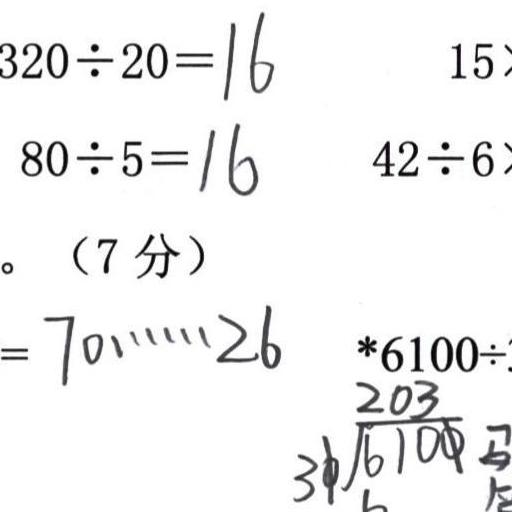ans: (41, 300, 280, 384), (215, 7, 275, 99), (192, 117, 258, 196)
